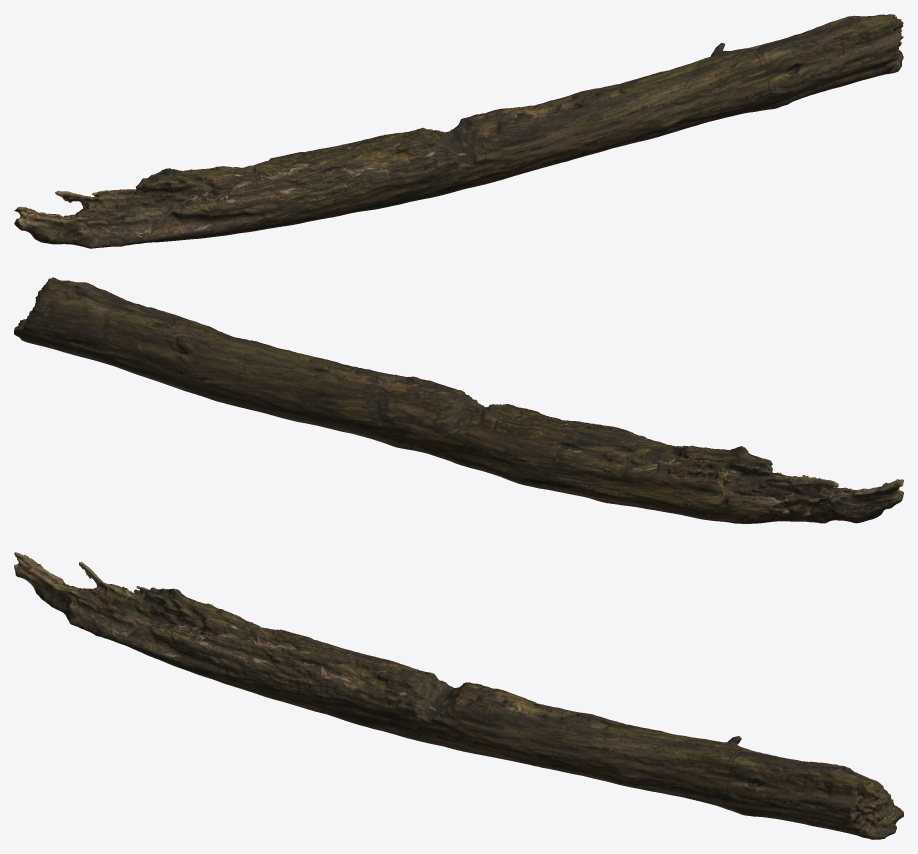
The model's file is dead_tree_trunk.fbx.
3 views of the same model, one above another, from view 1: azimuth 30°, elevation 25°; view 2: azimuth 150°, elevation 25°; view 3: azimuth 330°, elevation 25° (orthographic).
Parts seen in each view (by area): view 1: dead_tree_trunk; view 2: dead_tree_trunk; view 3: dead_tree_trunk.
Boxes of the visible parts, x1=… form: dead_tree_trunk: x1=14, y1=14, x2=903, y2=248; dead_tree_trunk: x1=14, y1=277, x2=903, y2=523; dead_tree_trunk: x1=14, y1=552, x2=903, y2=839.
Bounding box in the file's own units: 305 × 27.75 × 29.04.
